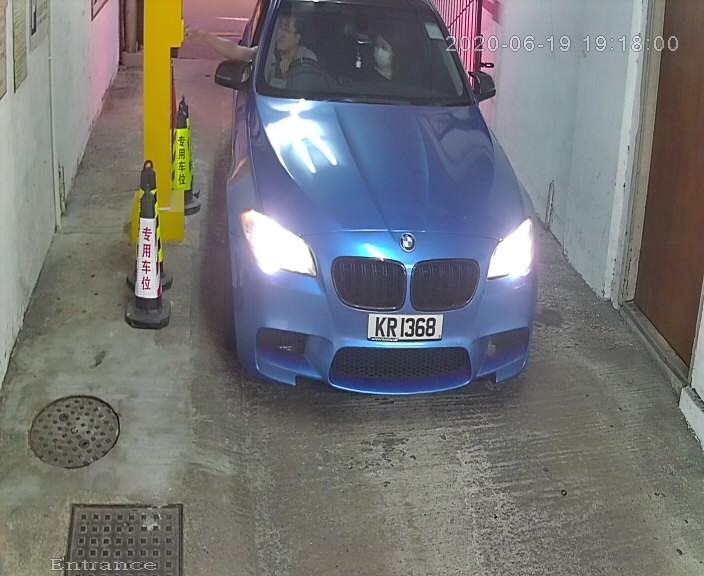privatecar: (192, 3, 551, 421)
